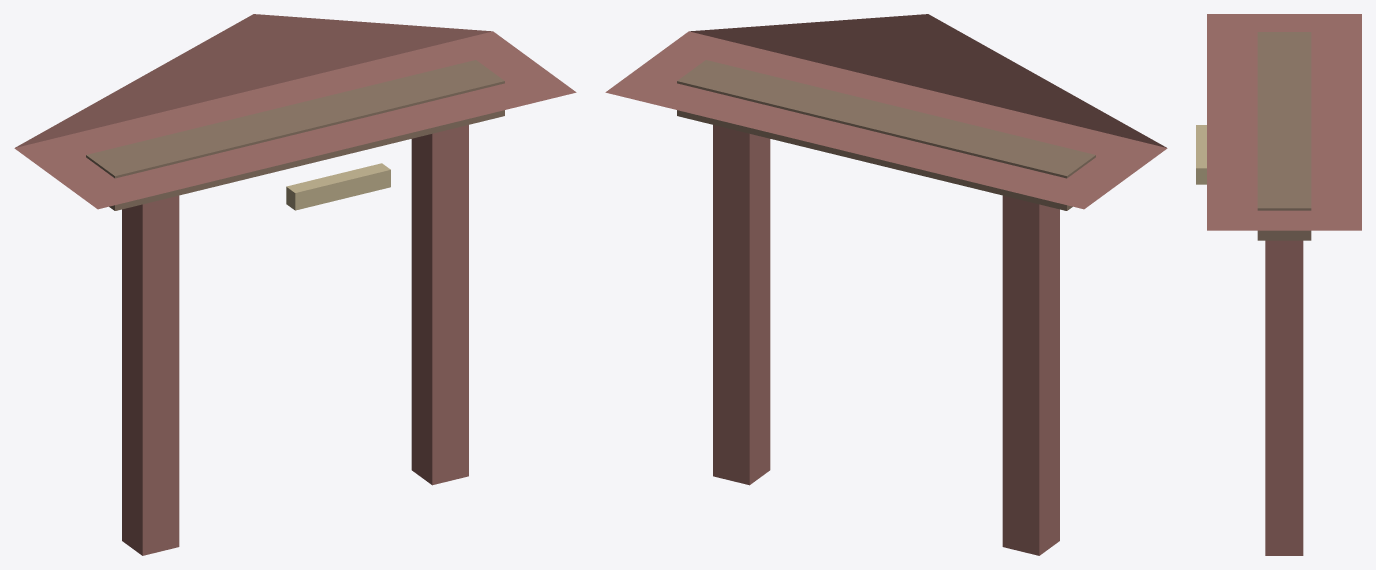
Rendered from portao_torii.glb.
The picture shows the model from 3 angles, left to right: view 1: azimuth 30°, elevation 25°; view 2: azimuth 150°, elevation 25°; view 3: azimuth 270°, elevation 25°; orthographic projection. The views are drawn at different scales.
Visible parts, largest first — view 1: part_003, part_000, part_001, part_002, part_004; view 2: part_003, part_000, part_001, part_002; view 3: part_003, part_001, part_002, part_004.
Boxes of the visible parts, <box> form: part_003: <box>14,14,576,209</box>; part_000: <box>122,195,179,555</box>; part_001: <box>411,125,468,485</box>; part_002: <box>86,60,504,210</box>; part_004: <box>286,163,390,210</box>; part_003: <box>605,14,1167,209</box>; part_000: <box>1002,195,1059,555</box>; part_001: <box>713,125,770,485</box>; part_002: <box>677,60,1095,210</box>; part_003: <box>1207,14,1361,230</box>; part_001: <box>1265,240,1303,555</box>; part_002: <box>1257,32,1311,240</box>; part_004: <box>1196,125,1206,184</box>.
Bounding box in the file's own units: 4.3 × 3.98 × 1.39.
